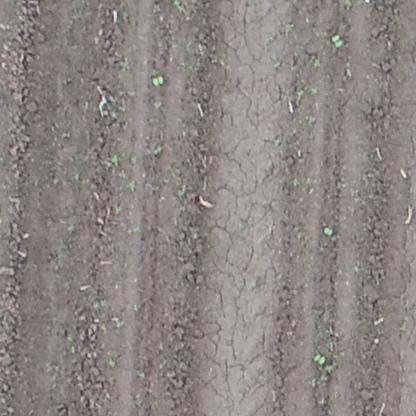vc: (330, 32, 349, 51), (312, 350, 326, 367), (150, 71, 165, 85), (321, 225, 334, 238)
